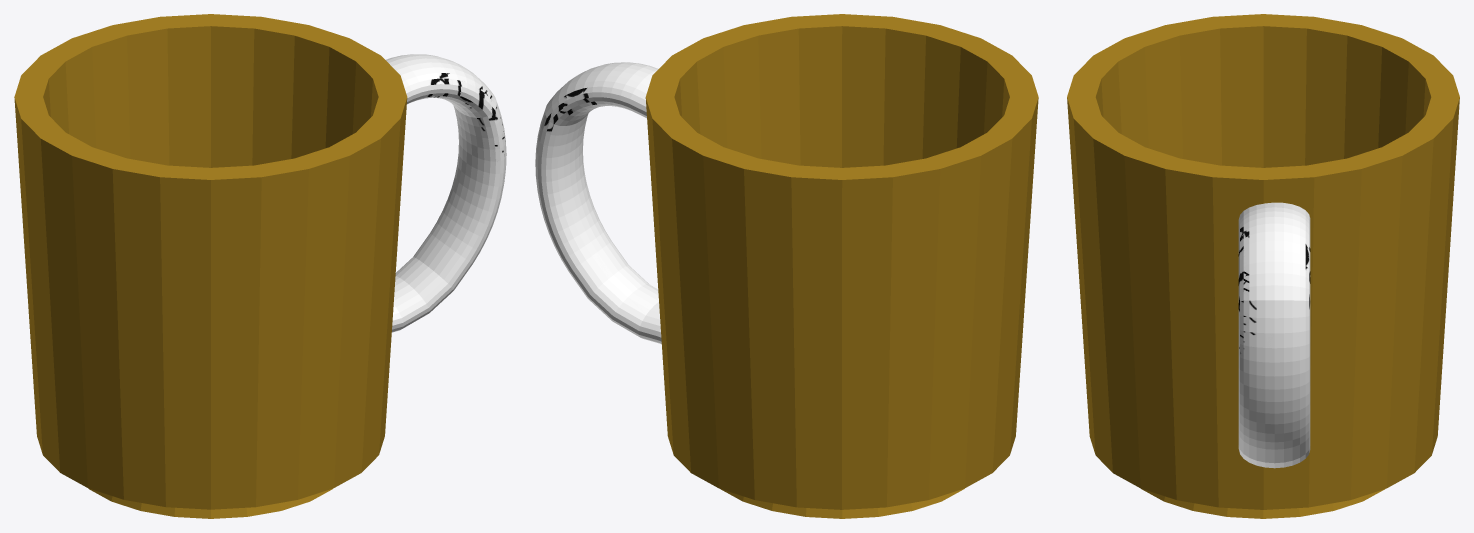
The picture shows the model from 3 angles, left to right: view 1: azimuth 30°, elevation 25°; view 2: azimuth 150°, elevation 25°; view 3: azimuth 270°, elevation 25°; orthographic projection.
Parts seen in each view (by area): view 1: mesh2_mesh2-geometry, mesh4_mesh4-geometry, mesh1_mesh1-geometry; view 2: mesh2_mesh2-geometry, mesh4_mesh4-geometry, mesh1_mesh1-geometry; view 3: mesh2_mesh2-geometry, mesh4_mesh4-geometry, mesh1_mesh1-geometry.
Boxes of the visible parts, x1=… form: mesh2_mesh2-geometry: x1=14, y1=14, x2=407, y2=509; mesh4_mesh4-geometry: x1=386, y1=54, x2=506, y2=332; mesh1_mesh1-geometry: x1=88, y1=488, x2=332, y2=518; mesh2_mesh2-geometry: x1=645, y1=14, x2=1038, y2=509; mesh4_mesh4-geometry: x1=535, y1=62, x2=661, y2=343; mesh1_mesh1-geometry: x1=720, y1=488, x2=964, y2=518; mesh2_mesh2-geometry: x1=1067, y1=14, x2=1459, y2=509; mesh4_mesh4-geometry: x1=1238, y1=202, x2=1310, y2=468; mesh1_mesh1-geometry: x1=1141, y1=488, x2=1384, y2=518.
Bounding box in the file's own units: 0.6904 × 0.5161 × 0.507.
